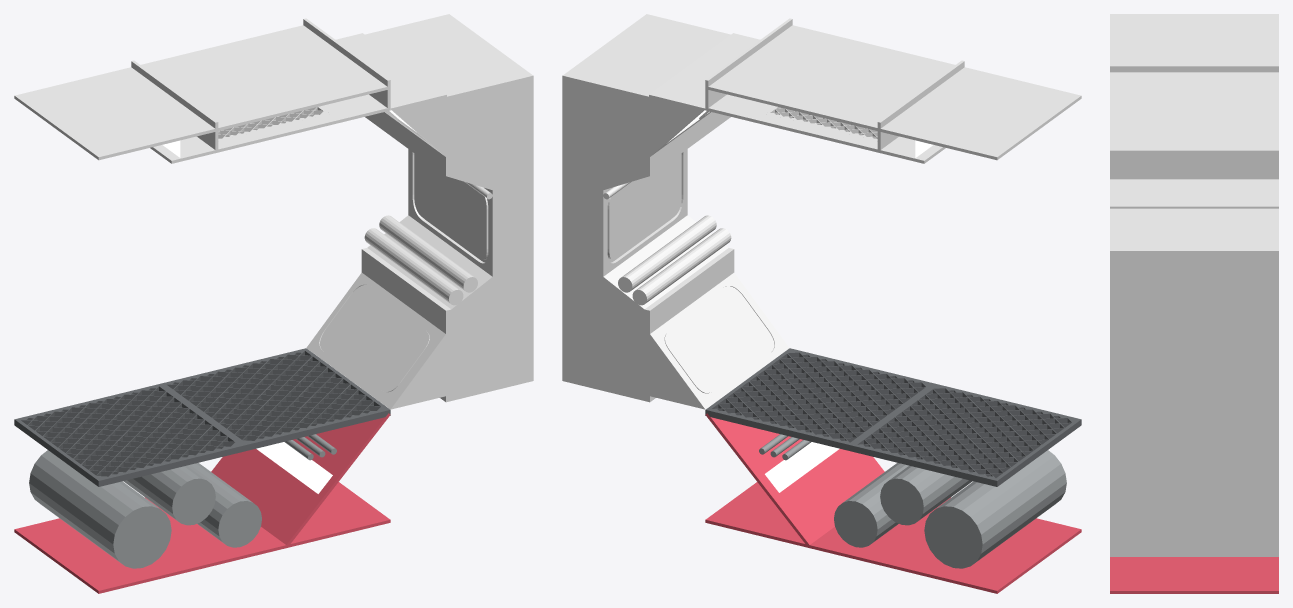
File: corridor2.gltf
3 renders of one model, left to right at view 1: azimuth 30°, elevation 25°; view 2: azimuth 150°, elevation 25°; view 3: azimuth 270°, elevation 25°, orthographic.
Visible parts, largest first — view 1: group_0_16448250, group_0_2829873, group_0_15277357, group_0_6383466, Plane.002; view 2: group_0_16448250, group_0_2829873, group_0_15277357, group_0_6383466, Plane.002; view 3: group_0_16448250, group_0_15277357.
Part boxes in pixels (box(x1,y1,x2,y2)): group_0_16448250: box(14, 14, 533, 409); group_0_2829873: box(14, 348, 390, 486); group_0_15277357: box(14, 413, 390, 593); group_0_6383466: box(29, 450, 261, 568); Plane.002: box(256, 442, 332, 493); group_0_16448250: box(562, 14, 1081, 409); group_0_2829873: box(705, 348, 1081, 486); group_0_15277357: box(705, 413, 1081, 593); group_0_6383466: box(834, 450, 1066, 568); Plane.002: box(765, 442, 839, 492); group_0_16448250: box(1110, 14, 1278, 556); group_0_15277357: box(1110, 557, 1278, 593).
Size of the model in its own units: 14.9 by 14.5 by 5.
